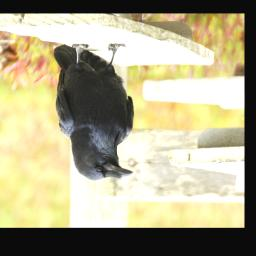Crow: (53, 43, 136, 181)
